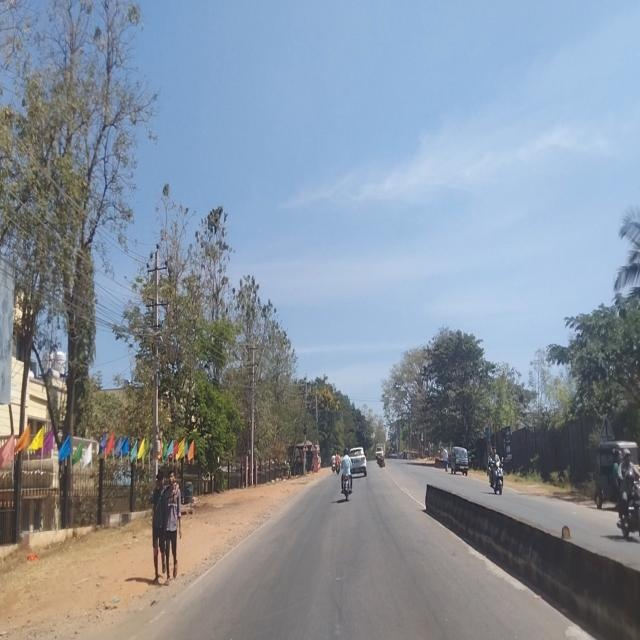bien_nguy_hiem: (302, 441, 308, 452), (310, 443, 316, 452)
